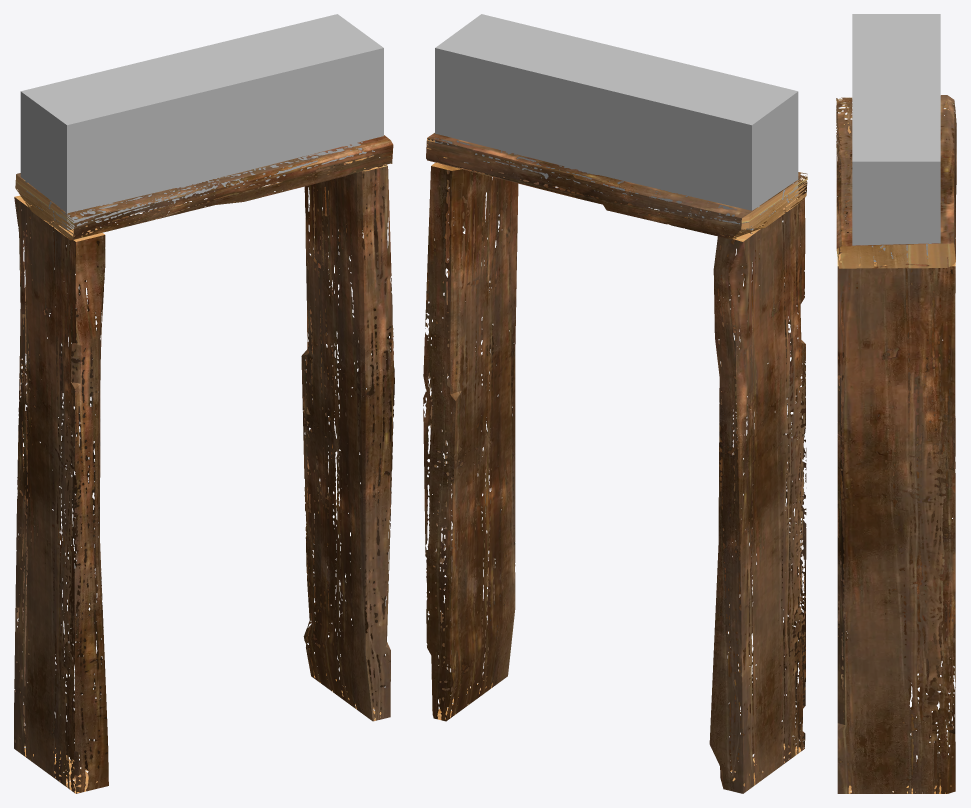
The picture shows the model from 3 angles, left to right: view 1: azimuth 30°, elevation 25°; view 2: azimuth 150°, elevation 25°; view 3: azimuth 270°, elevation 25°; orthographic projection. The views are drawn at different scales.
Visible parts, largest first — view 1: SM_BB_T4_Wall_Doorframe_Narrow_02_LOD0; view 2: SM_BB_T4_Wall_Doorframe_Narrow_02_LOD0; view 3: SM_BB_T4_Wall_Doorframe_Narrow_02_LOD0.
Part boxes in pixels (<box>): SM_BB_T4_Wall_Doorframe_Narrow_02_LOD0: <box>14,14,394,793</box>; SM_BB_T4_Wall_Doorframe_Narrow_02_LOD0: <box>423,14,807,793</box>; SM_BB_T4_Wall_Doorframe_Narrow_02_LOD0: <box>836,14,956,793</box>.
Size of the model in its own units: 1.53 by 3 by 0.5176.
